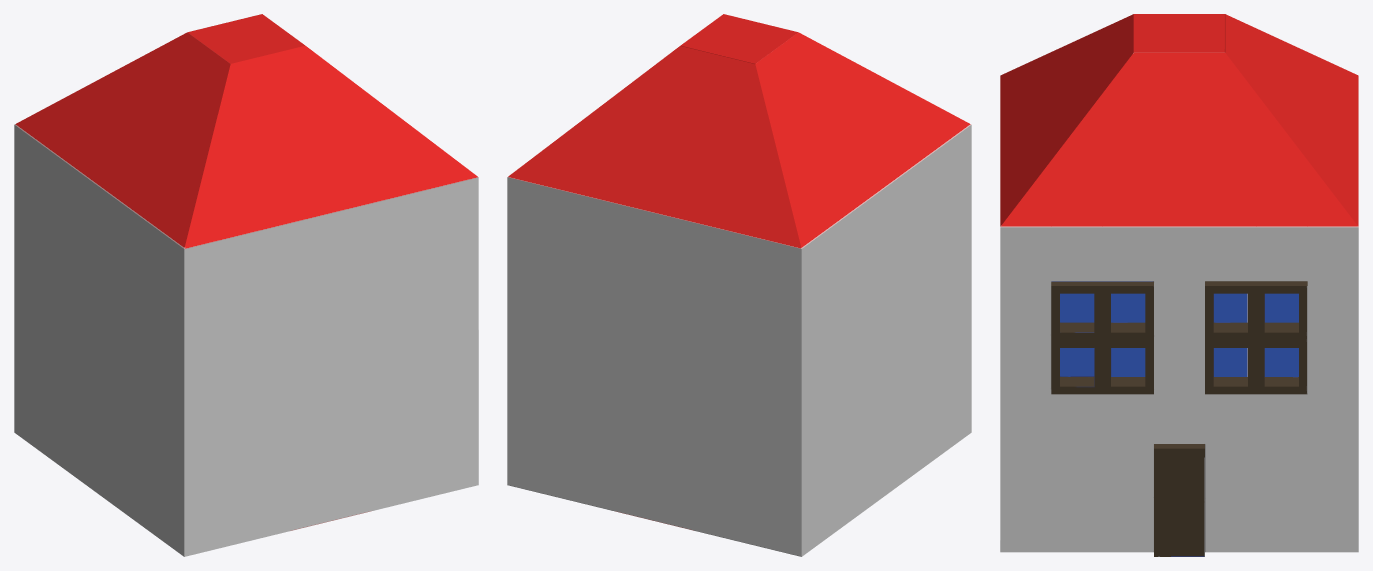
The model's file is HousePlaceHolder.fbx.
3 renders of one model, left to right at view 1: azimuth 30°, elevation 25°; view 2: azimuth 150°, elevation 25°; view 3: azimuth 270°, elevation 25°, orthographic. The views are drawn at different scales.
Visible parts, largest first — view 1: Cube; view 2: Cube; view 3: Cube.
Part boxes in pixels (x1,y1,x2,y2): Cube: [14, 14, 478, 556]; Cube: [507, 14, 971, 556]; Cube: [1000, 14, 1358, 556].
Bounding box in the file's own units: 206 × 273 × 200.
Materials: 1 (1 with a texture image).
